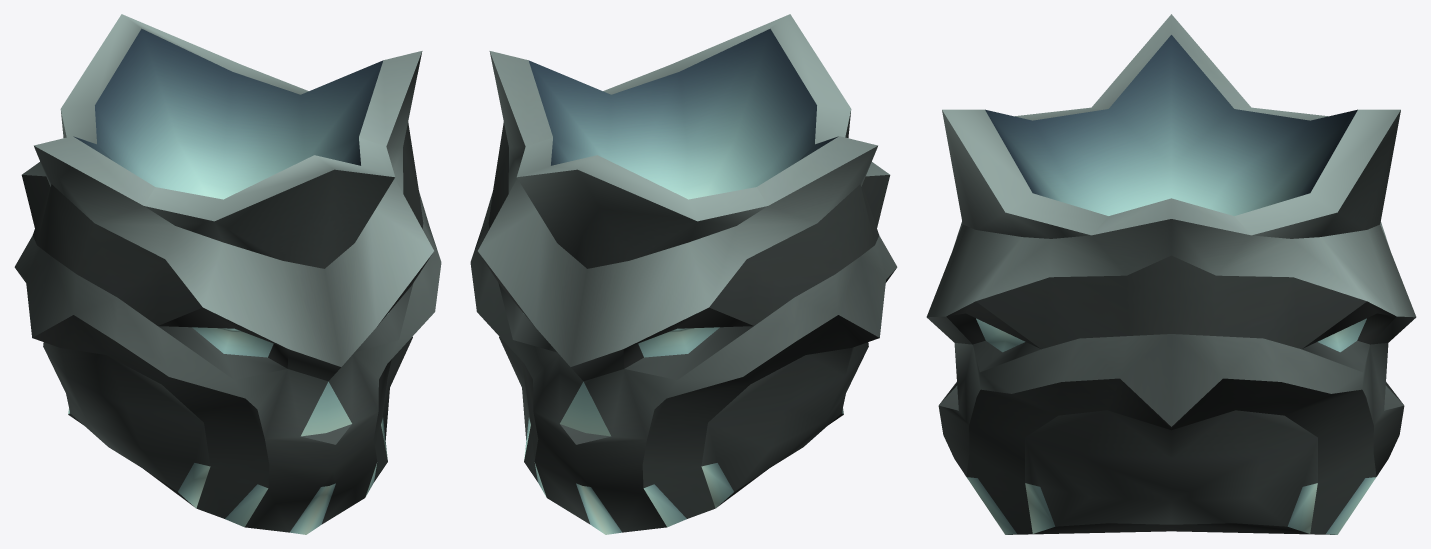
The model's file is orc_head_lantern.fbx.
3 renders of one model, left to right at view 1: azimuth 30°, elevation 25°; view 2: azimuth 150°, elevation 25°; view 3: azimuth 270°, elevation 25°, orthographic. The views are drawn at different scales.
Parts seen in each view (by area): view 1: orc_head_lantern; view 2: orc_head_lantern; view 3: orc_head_lantern.
Part boxes in pixels (<box>): orc_head_lantern: <box>14,14,441,534</box>; orc_head_lantern: <box>470,14,897,534</box>; orc_head_lantern: <box>926,14,1416,534</box>.
Size of the model in its own units: 215 by 202 by 215.
